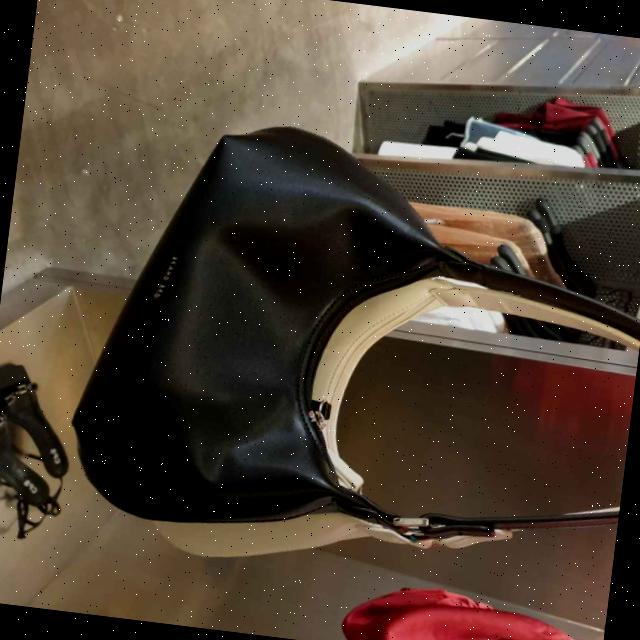Handbag: (51, 65, 486, 555)
